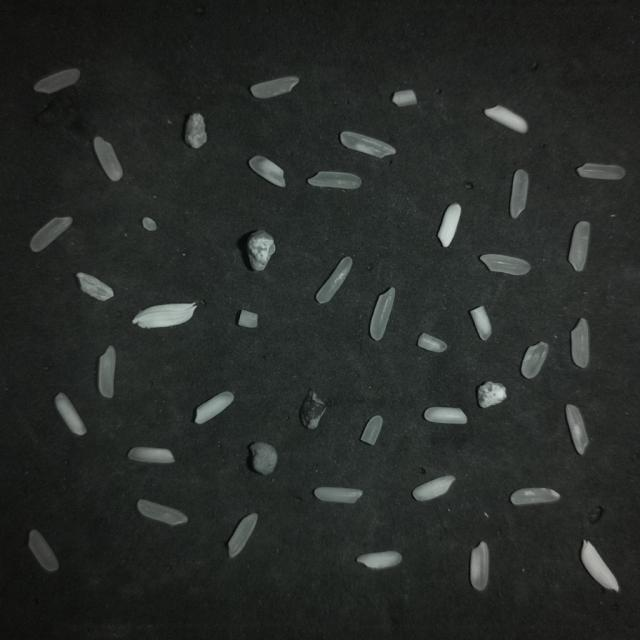broken: (412, 475, 455, 501), (470, 306, 491, 340), (360, 415, 383, 445), (417, 334, 447, 352), (392, 90, 417, 106), (238, 310, 258, 328), (142, 217, 157, 231)
chalky: (55, 393, 86, 435), (195, 392, 234, 424), (484, 105, 528, 133), (249, 157, 285, 187), (438, 204, 461, 247), (357, 551, 401, 569), (314, 487, 362, 503), (128, 447, 174, 463), (424, 407, 467, 424)
foreign: (581, 540, 619, 591), (132, 303, 196, 328), (247, 230, 275, 271), (77, 272, 113, 301), (300, 390, 326, 429), (249, 442, 277, 474), (184, 114, 207, 148), (477, 382, 506, 408)
whole: (316, 257, 352, 303), (30, 217, 72, 252), (340, 132, 396, 158), (228, 513, 258, 557), (94, 137, 123, 181), (137, 500, 188, 525), (370, 287, 394, 340), (29, 530, 59, 571), (34, 69, 80, 94), (566, 405, 588, 454), (480, 254, 530, 275), (250, 77, 299, 98), (569, 222, 589, 271), (521, 342, 548, 378), (307, 172, 361, 189), (99, 346, 116, 398), (571, 319, 589, 368), (470, 542, 488, 591), (510, 170, 528, 218), (510, 488, 559, 505), (577, 164, 624, 179)
